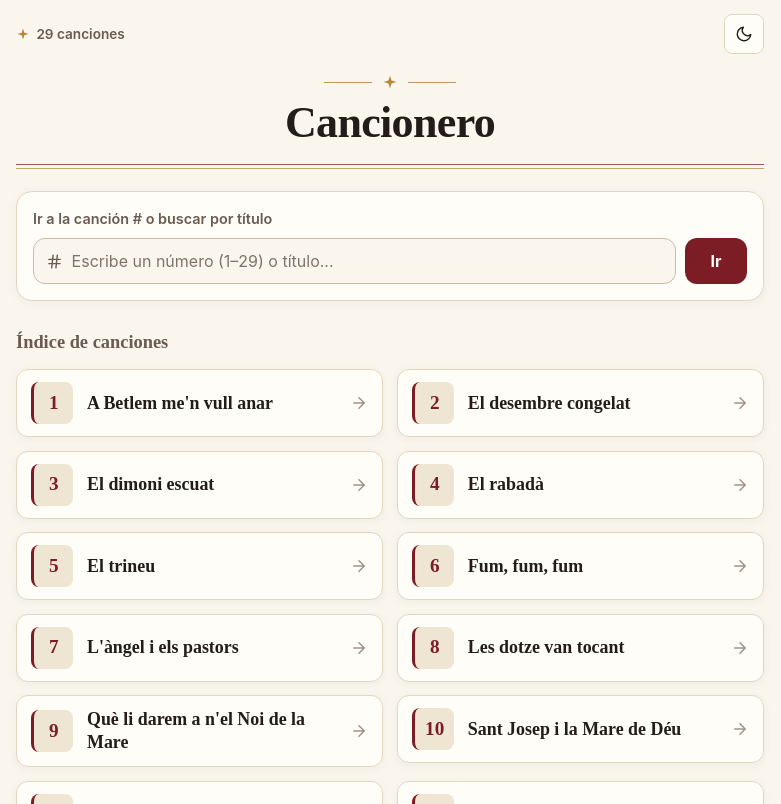
Test case: Cancionero App › shows an accessible error when jumping to an unavailable song number
Type "99" into the field labelled "Ir a la canción # o buscar por título" at (355, 261), box [33,238,676,284]
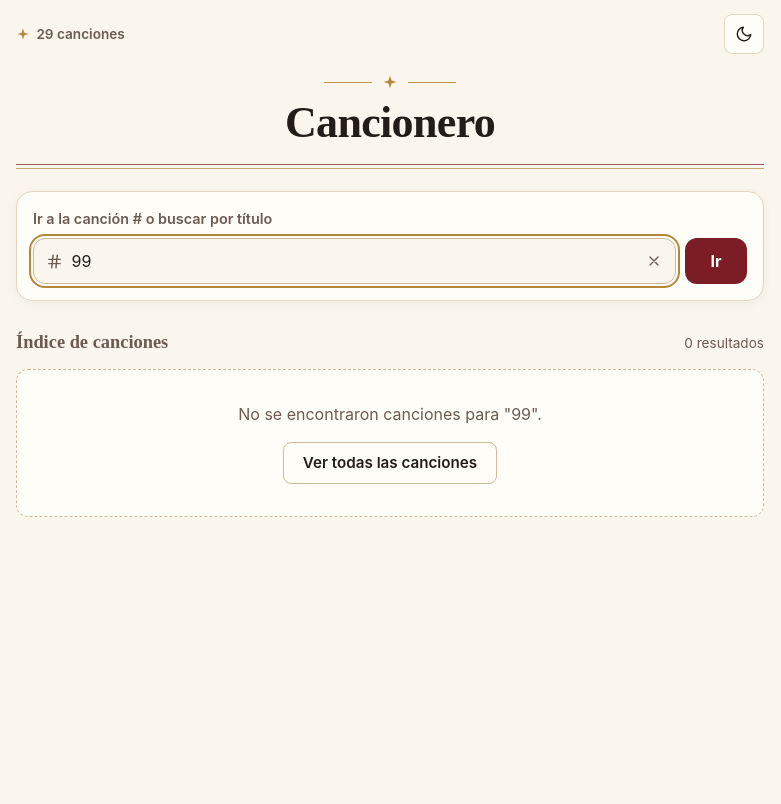
Click the button "Ir" at (716, 261), box [685,238,747,284]
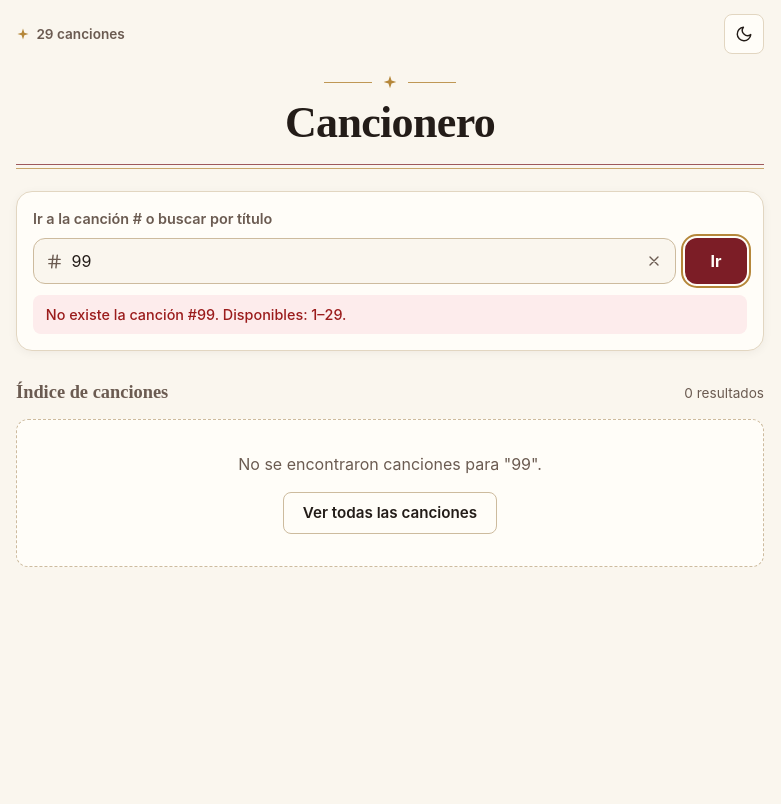
expect the message shows "No existe la canción #99": met, box [46,306,346,323]
